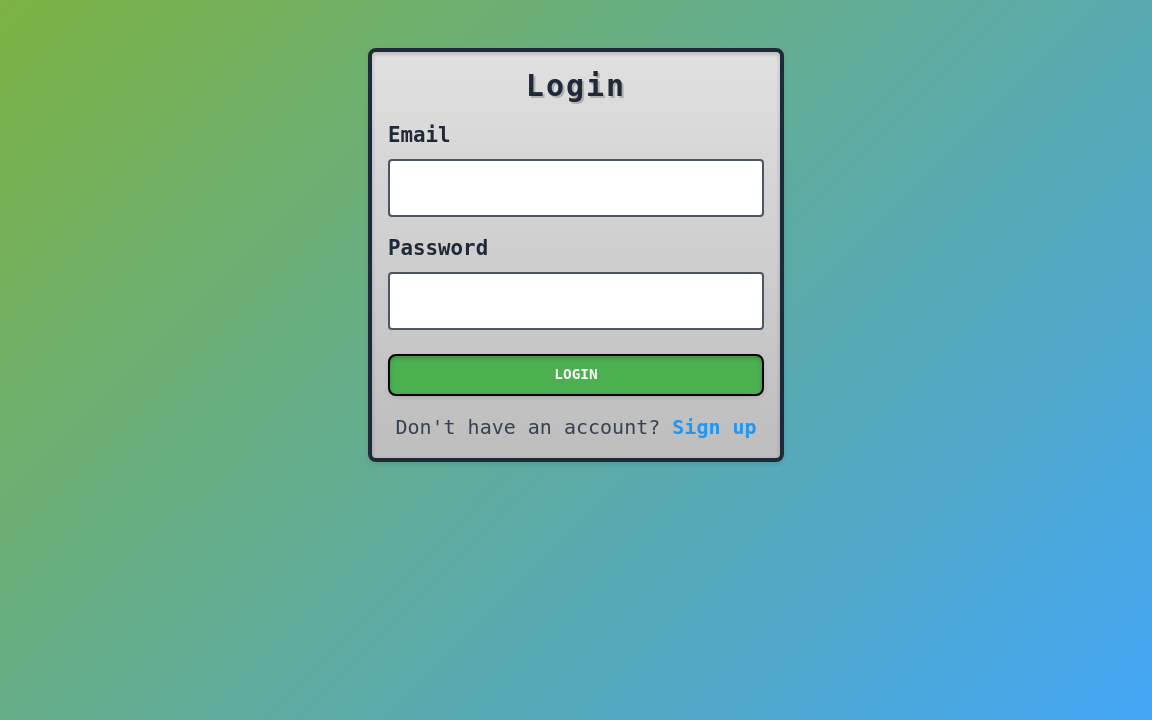
Test case: Login › disables submit button while loading
In the field labelled "Email": (576, 188) [388, 159, 764, 217], type "test@example.com"
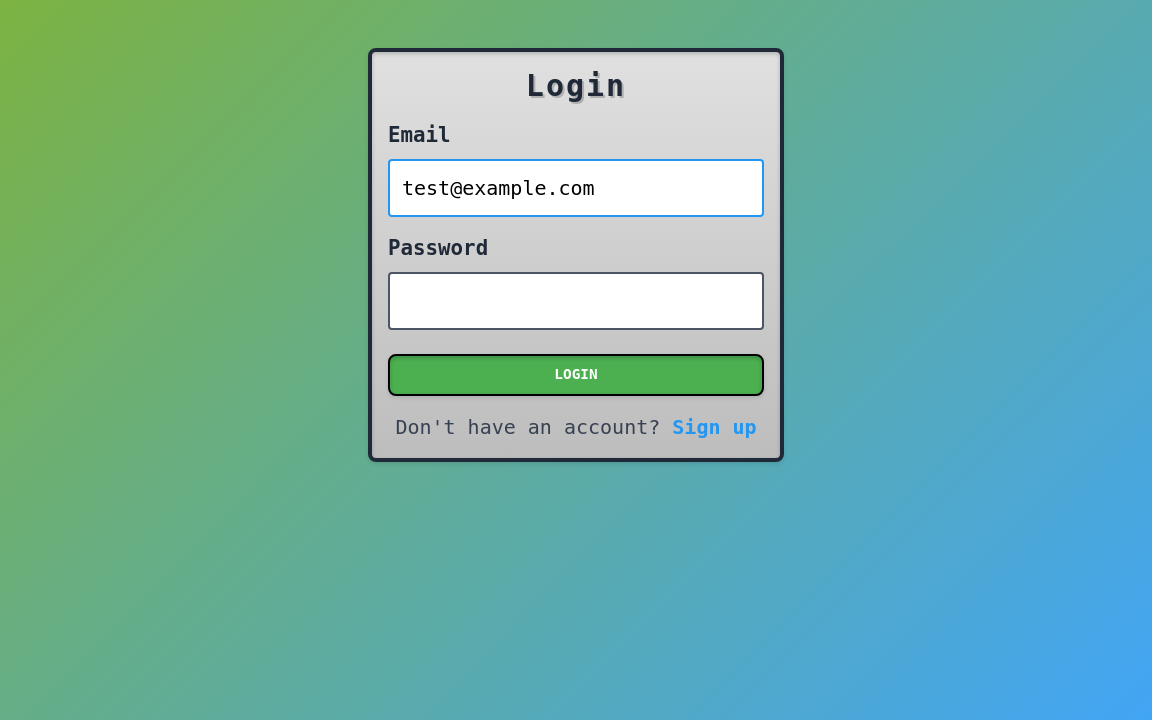
In the password field labelled "Password": (576, 301) [388, 272, 764, 330], type "password123"
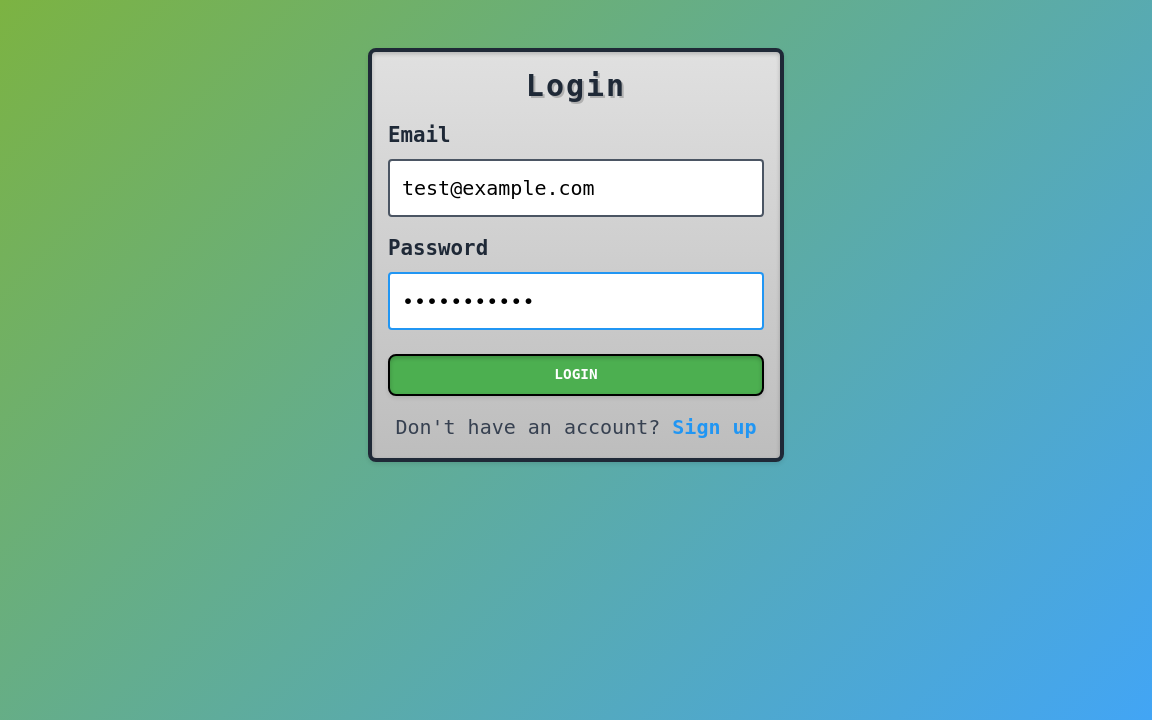
Click the button "Login": (576, 375) [388, 354, 764, 396]
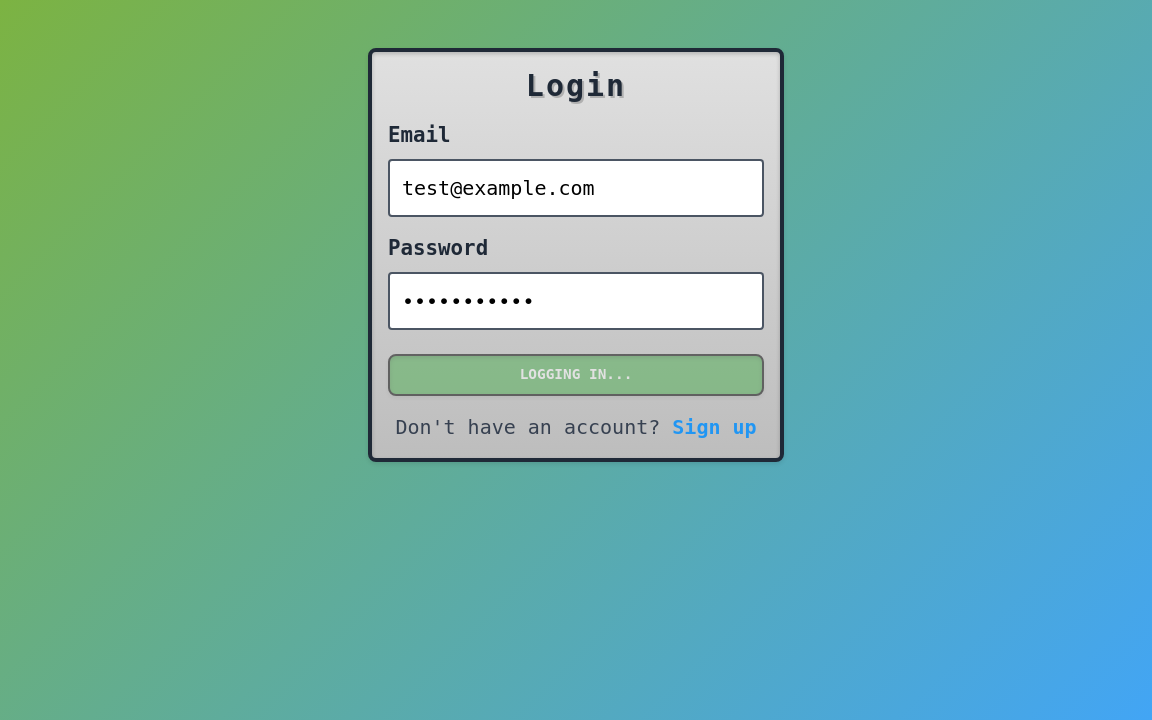
expect the button named "login" is disabled: met, box [388, 354, 764, 396]
expect the button named "login" reads "Logging in...": met, box [388, 354, 764, 396]
